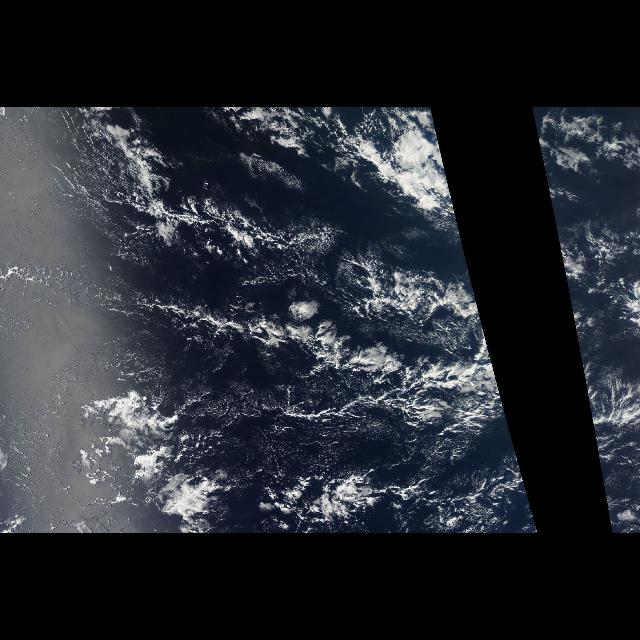Fish: (130, 186, 344, 260), (347, 262, 485, 332)
